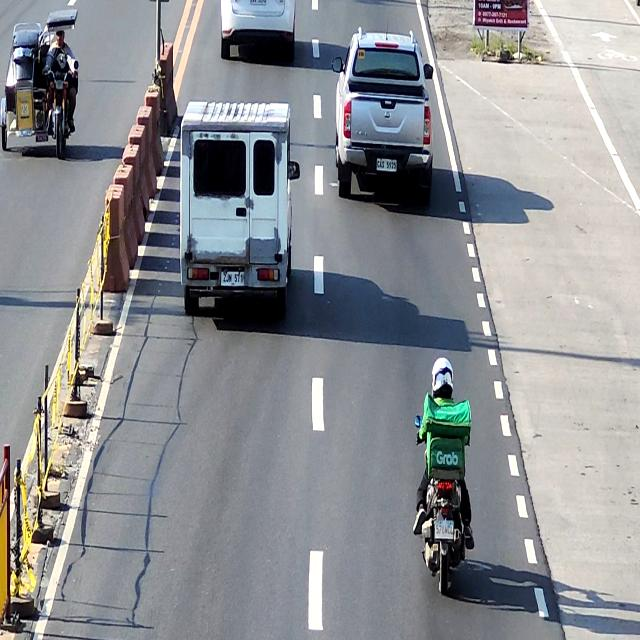Car: (183, 101, 300, 323), (332, 26, 434, 206), (220, 0, 296, 61)
License-Plate: (434, 520, 455, 540), (222, 272, 246, 286), (376, 157, 398, 172), (250, 0, 266, 5)
Motorcycle: (414, 406, 472, 598)
Tricycle: (0, 11, 78, 155)
